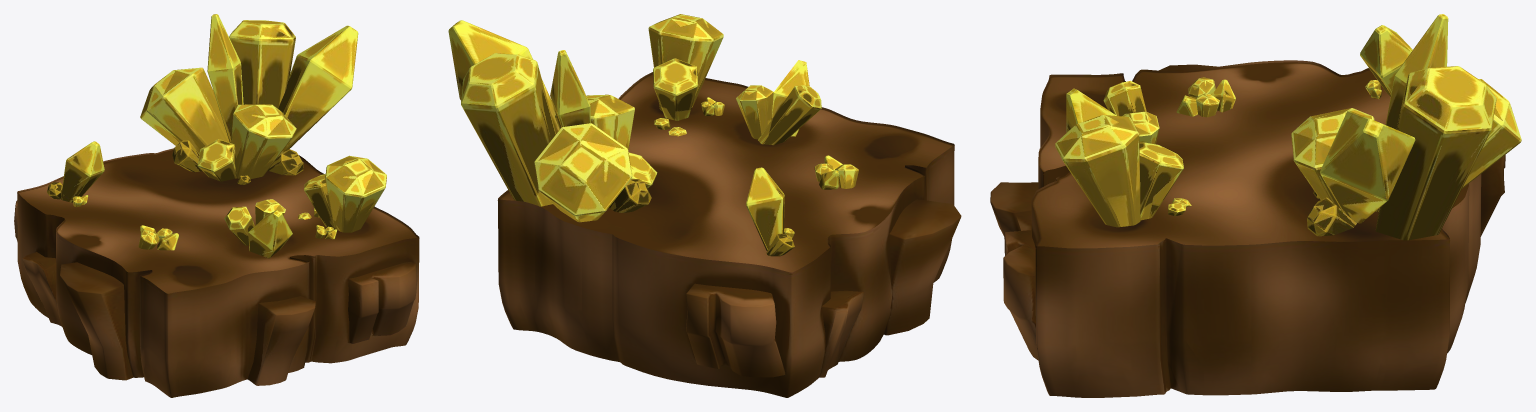
File: land-S.glb
The picture shows the model from 3 angles, left to right: view 1: azimuth 30°, elevation 25°; view 2: azimuth 150°, elevation 25°; view 3: azimuth 270°, elevation 25°; orthographic projection. The views are drawn at different scales.
Visible parts, largest first — view 1: Land; view 2: Land; view 3: Land.
Part boxes in pixels (left/top/right/bottom): Land: left=14, top=14, right=419, bottom=397; Land: left=448, top=14, right=961, bottom=397; Land: left=990, top=14, right=1521, bottom=397.
Bounding box in the file's own units: 10.39 × 6.83 × 9.54.
Materials: 1 (1 with a texture image).
